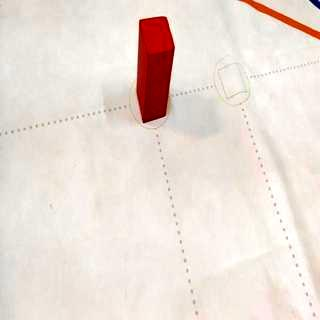redbox: (138, 15, 176, 123)
